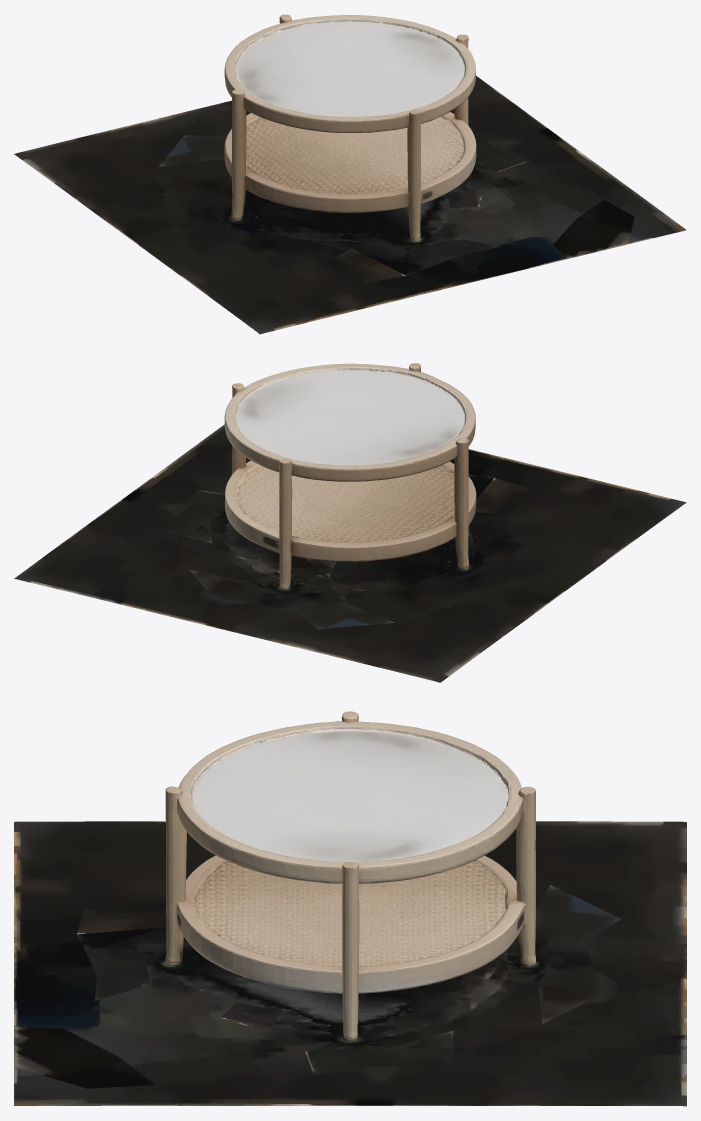
File: ast_d5fa083d4fb4.glb
The picture shows the model from 3 angles, top to bottom: view 1: azimuth 30°, elevation 25°; view 2: azimuth 150°, elevation 25°; view 3: azimuth 270°, elevation 25°; orthographic projection. The views are drawn at different scales.
Visible parts, largest first — view 1: geometry_0; view 2: geometry_0; view 3: geometry_0.
Boxes of the visible parts, x1,y1,x2,y2 form: geometry_0: (14, 14, 686, 334); geometry_0: (14, 363, 686, 682); geometry_0: (14, 711, 686, 1106).
Size of the model in its own units: 1 by 0.2867 by 1.
Materials: 1 (1 with a texture image).
